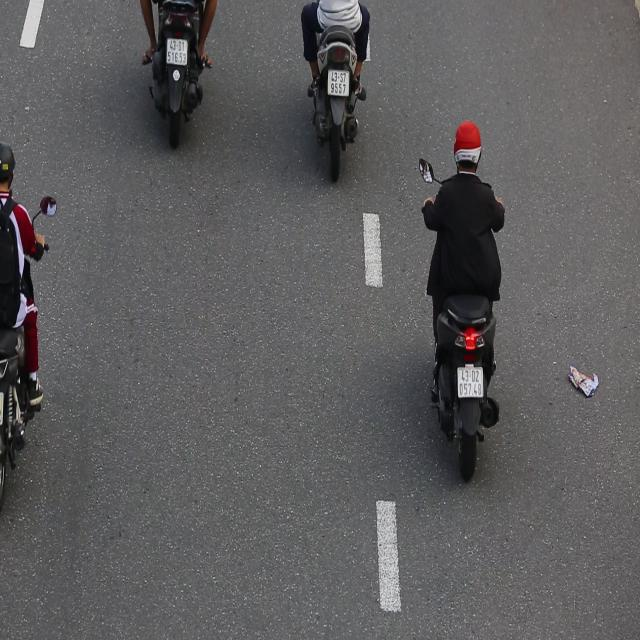motorbike: (415, 115, 508, 494)
